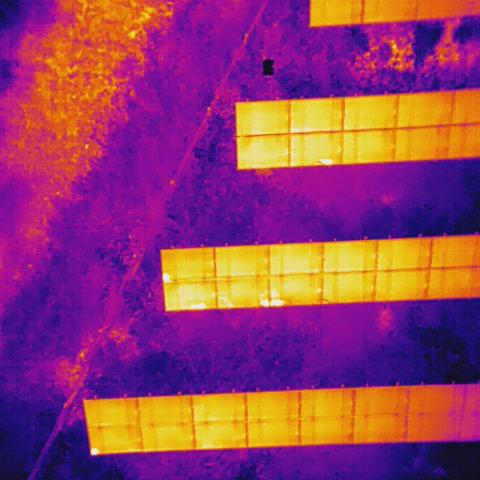fault: (258, 297, 284, 309), (317, 154, 336, 167), (191, 299, 208, 312), (89, 444, 100, 455), (161, 272, 170, 284), (269, 286, 278, 297)
